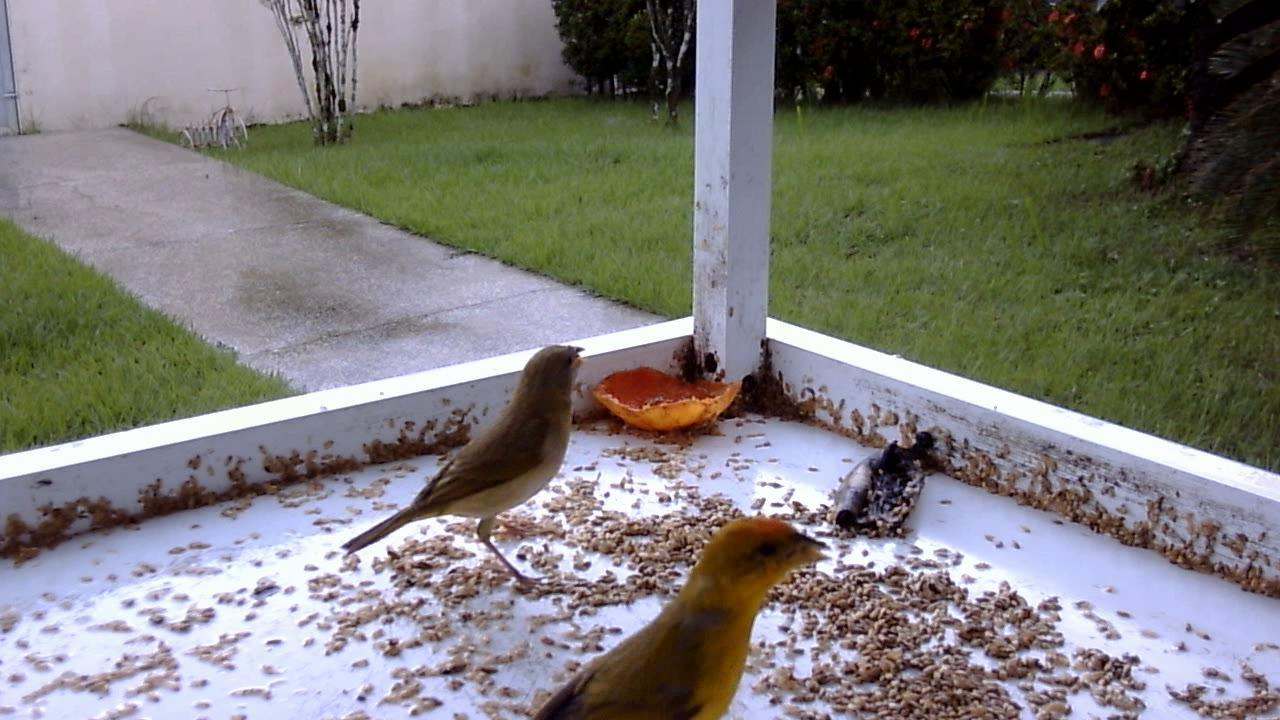canario_do_amazonas: (334, 338, 597, 603), (520, 515, 837, 720)
